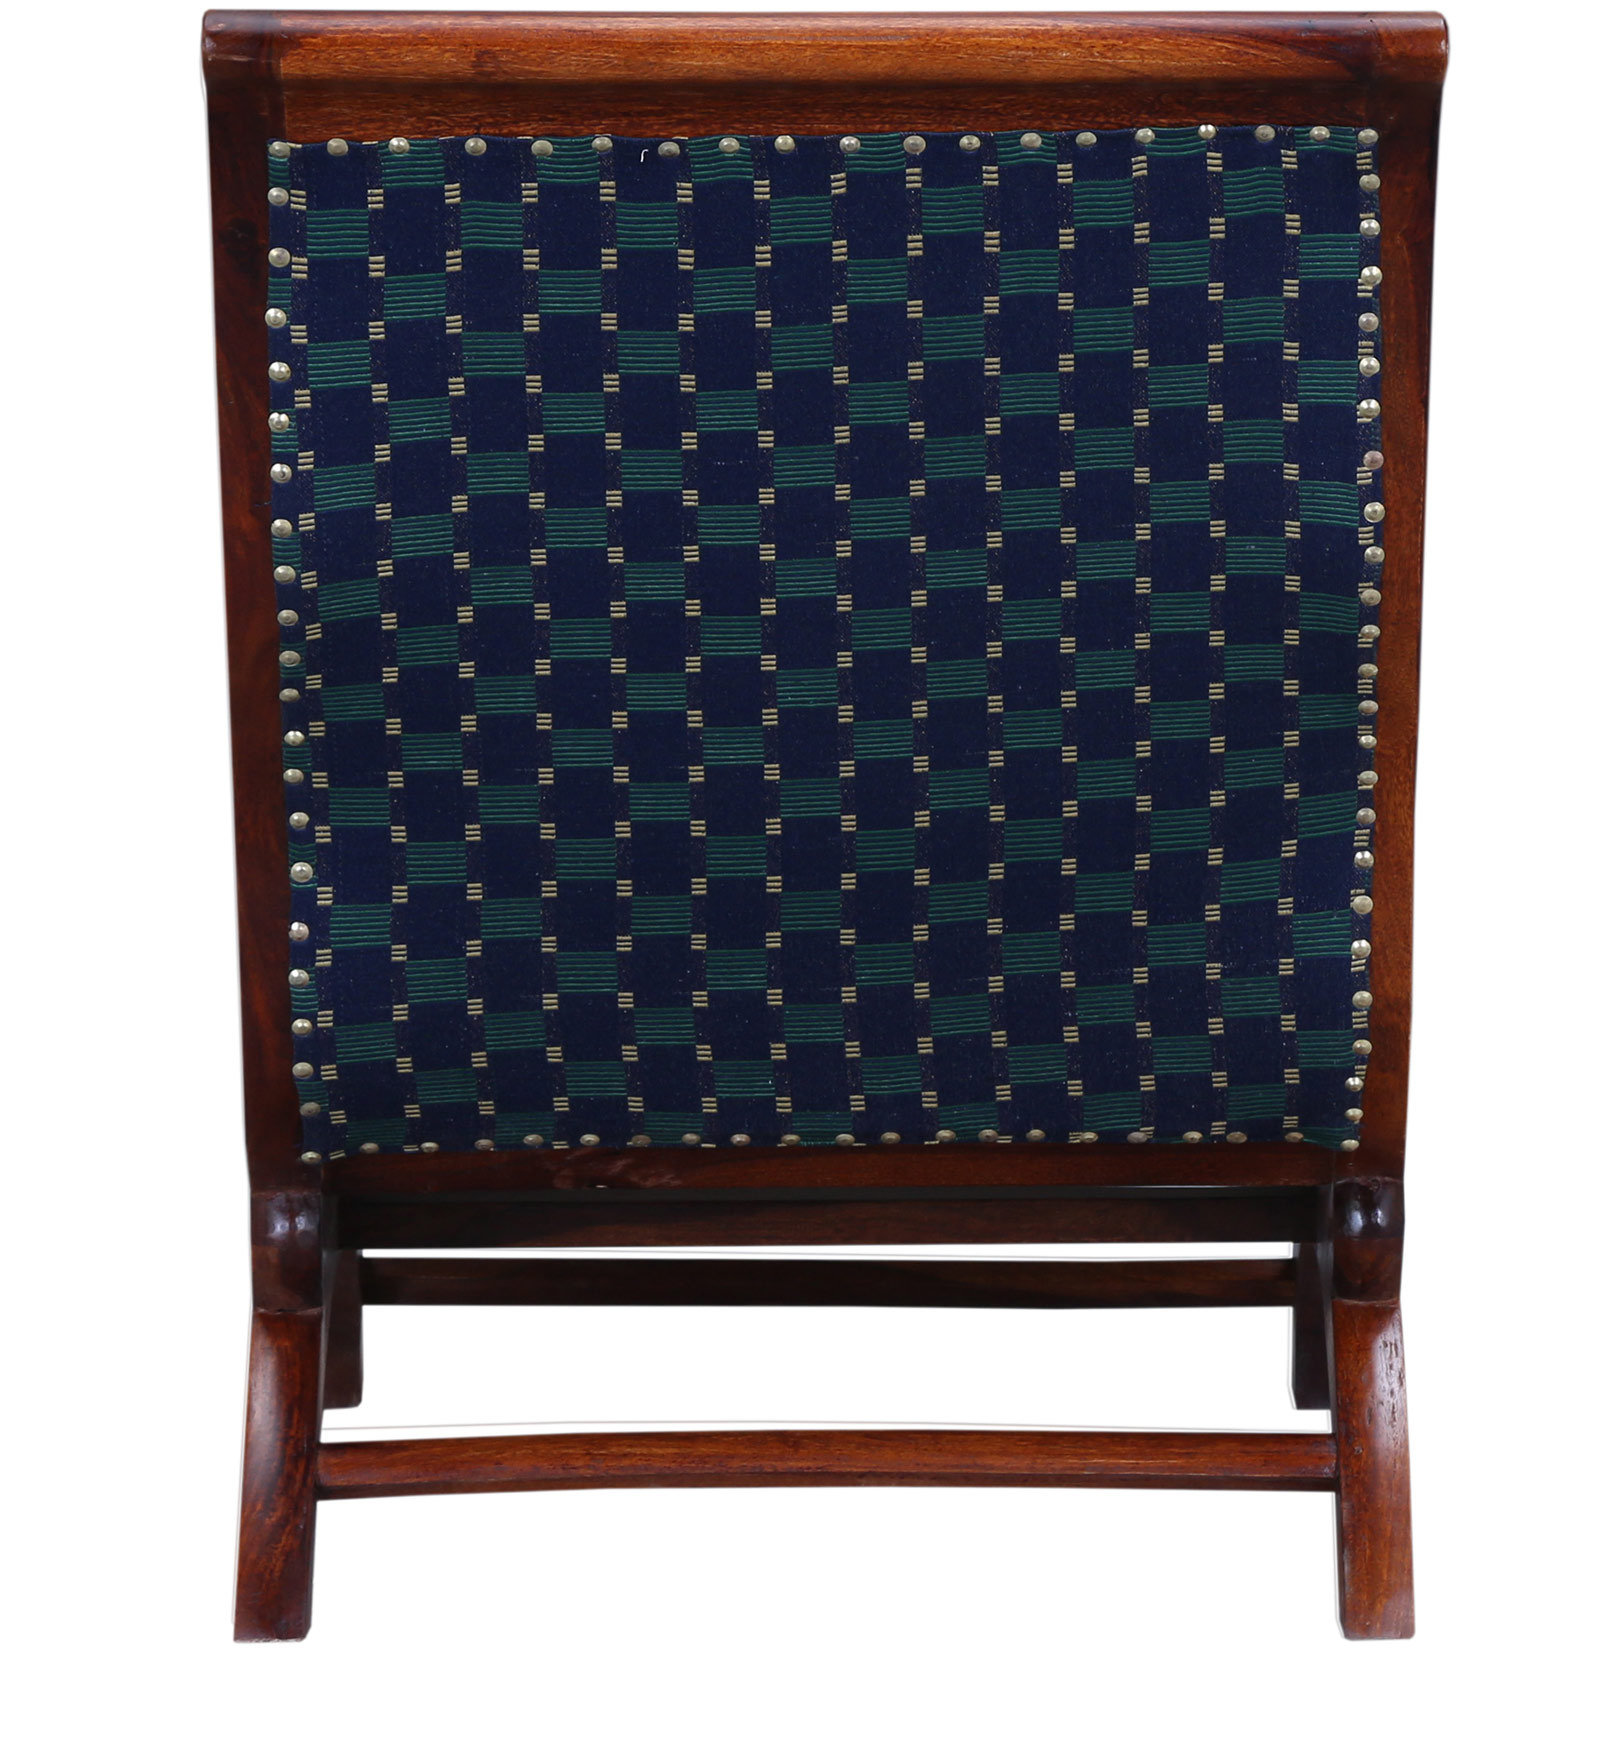Amherst Arm Chair in Honey Oak Finish by Amberville: (136, 5, 1519, 1699)
